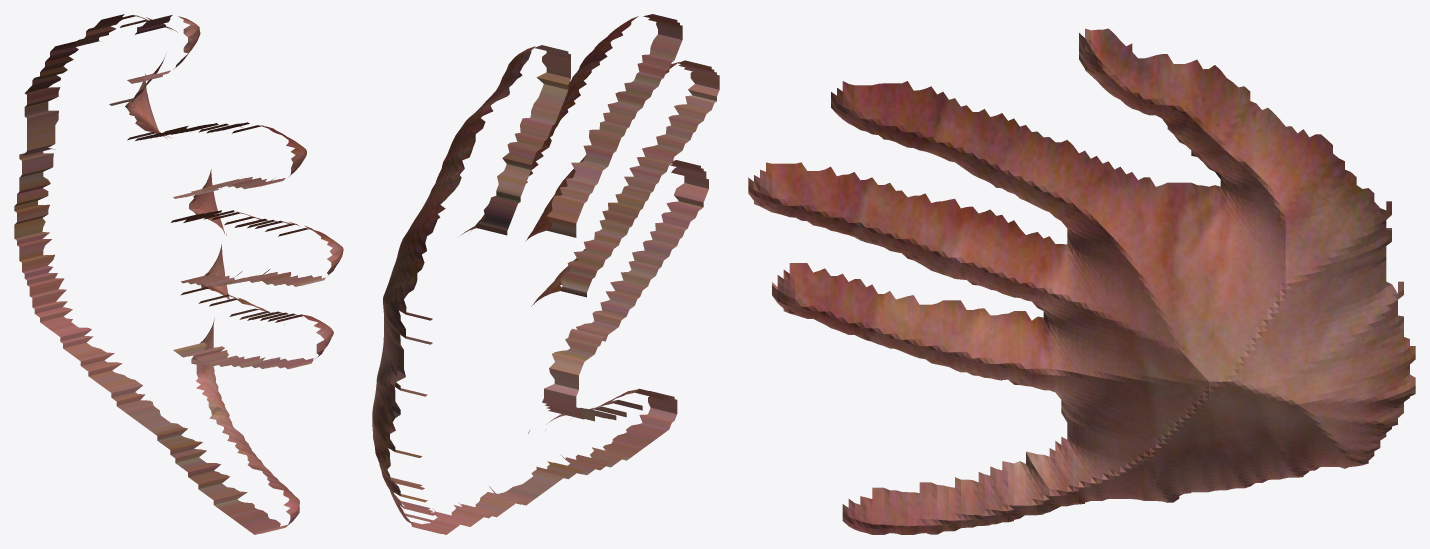
File: hand.glb
3 renders of one model, left to right at view 1: azimuth 30°, elevation 25°; view 2: azimuth 150°, elevation 25°; view 3: azimuth 270°, elevation 25°, orthographic. The views are drawn at different scales.
Parts seen in each view (by area): view 1: geometry_0; view 2: geometry_0; view 3: geometry_0.
Part boxes in pixels (x1,y1,x2,y2): geometry_0: (14,14,343,534); geometry_0: (372,14,719,534); geometry_0: (748,28,1415,534).
Size of the model in its own units: 0.0339 by 0.1269 by 0.1525.
Materials: 1 (1 with a texture image).
